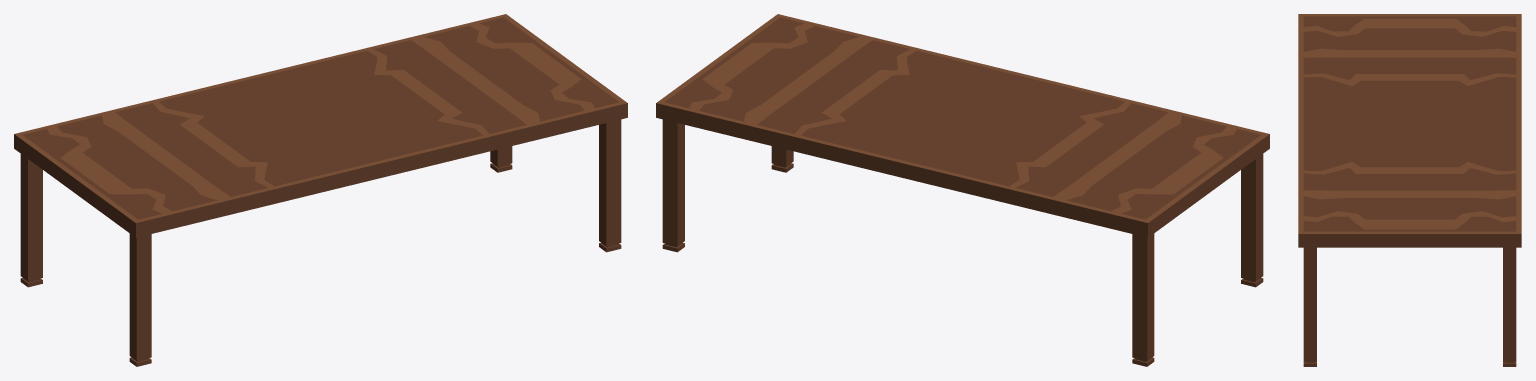
File: MeetingDeskV1.fbx
3 renders of one model, left to right at view 1: azimuth 30°, elevation 25°; view 2: azimuth 150°, elevation 25°; view 3: azimuth 270°, elevation 25°, orthographic. The views are drawn at different scales.
Parts seen in each view (by area): view 1: MeetingDeskV1; view 2: MeetingDeskV1; view 3: MeetingDeskV1.
Part boxes in pixels (x1=…): MeetingDeskV1: x1=14, y1=14, x2=627, y2=366; MeetingDeskV1: x1=656, y1=14, x2=1269, y2=366; MeetingDeskV1: x1=1298, y1=14, x2=1521, y2=366.
Bounding box in the file's own units: 280 × 79.87 × 120.
